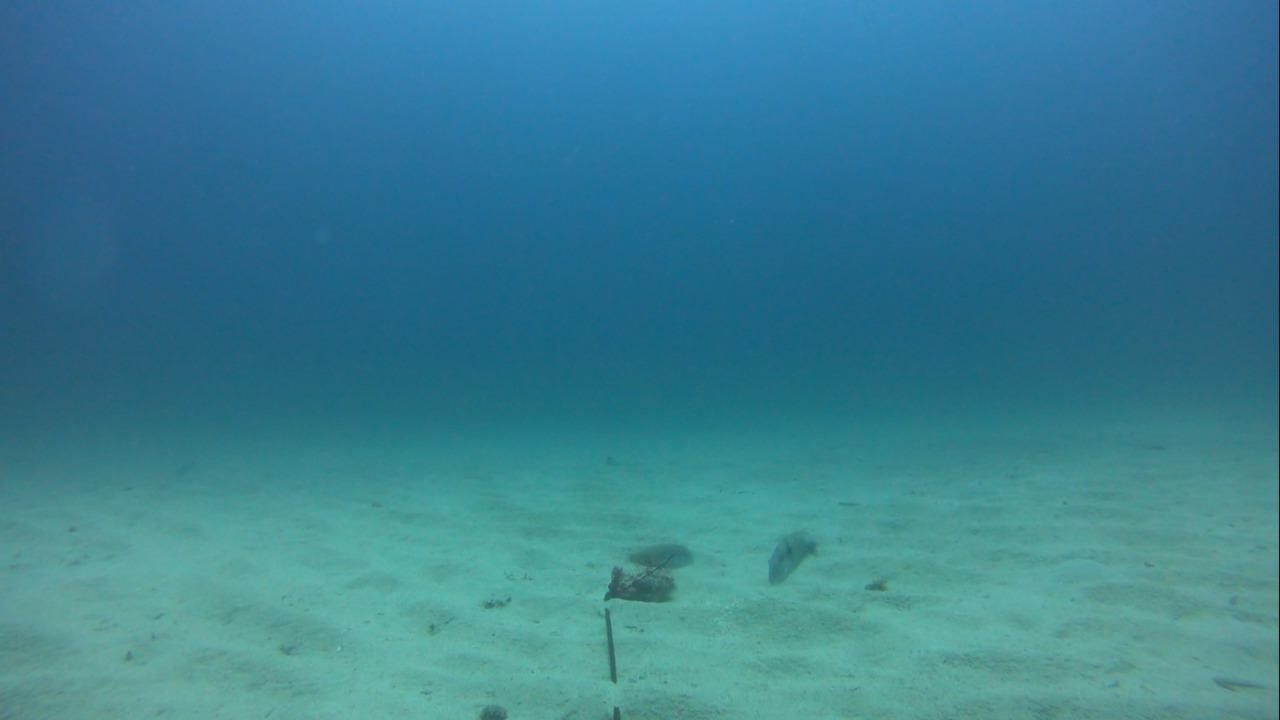raor: (760, 525, 823, 586), (620, 533, 698, 573)
